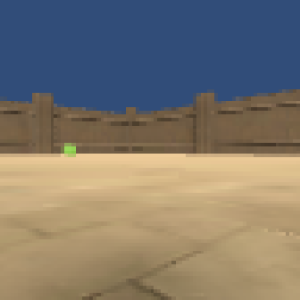goodGoal: (60, 141, 77, 158)
